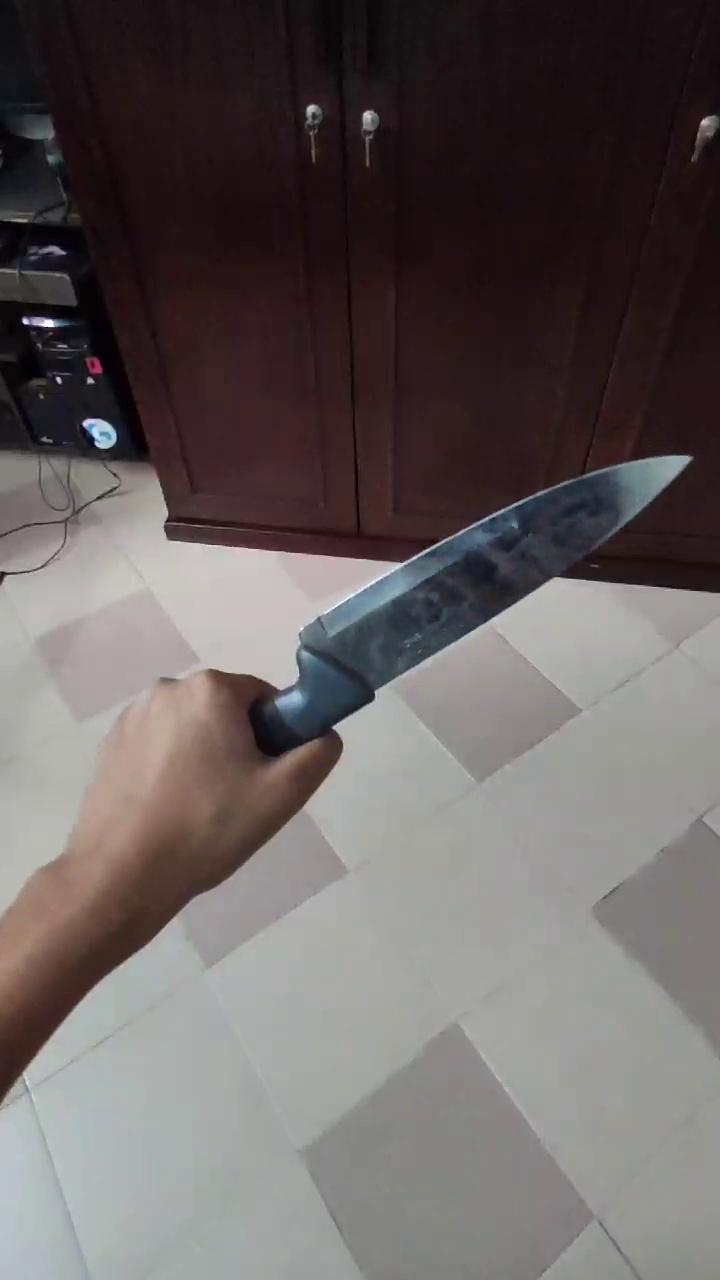knives: (271, 422, 703, 764)
